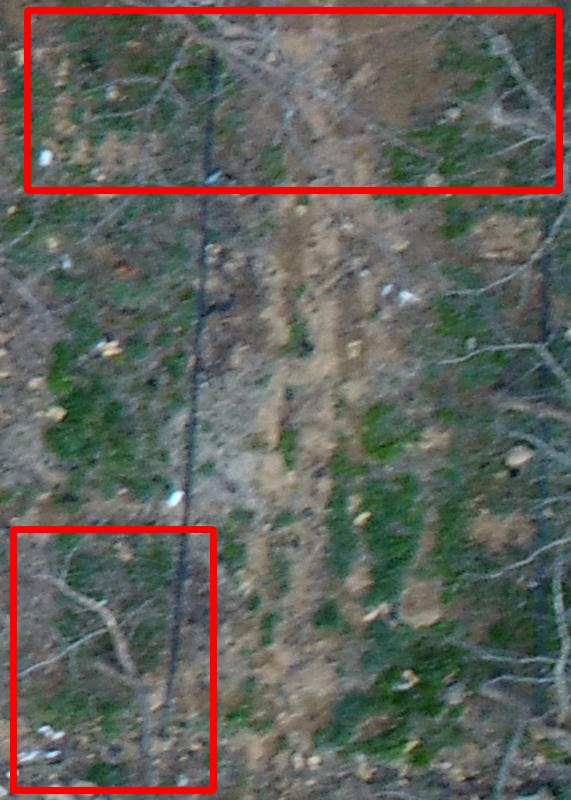apple: (27, 10, 559, 190), (13, 529, 213, 790)
